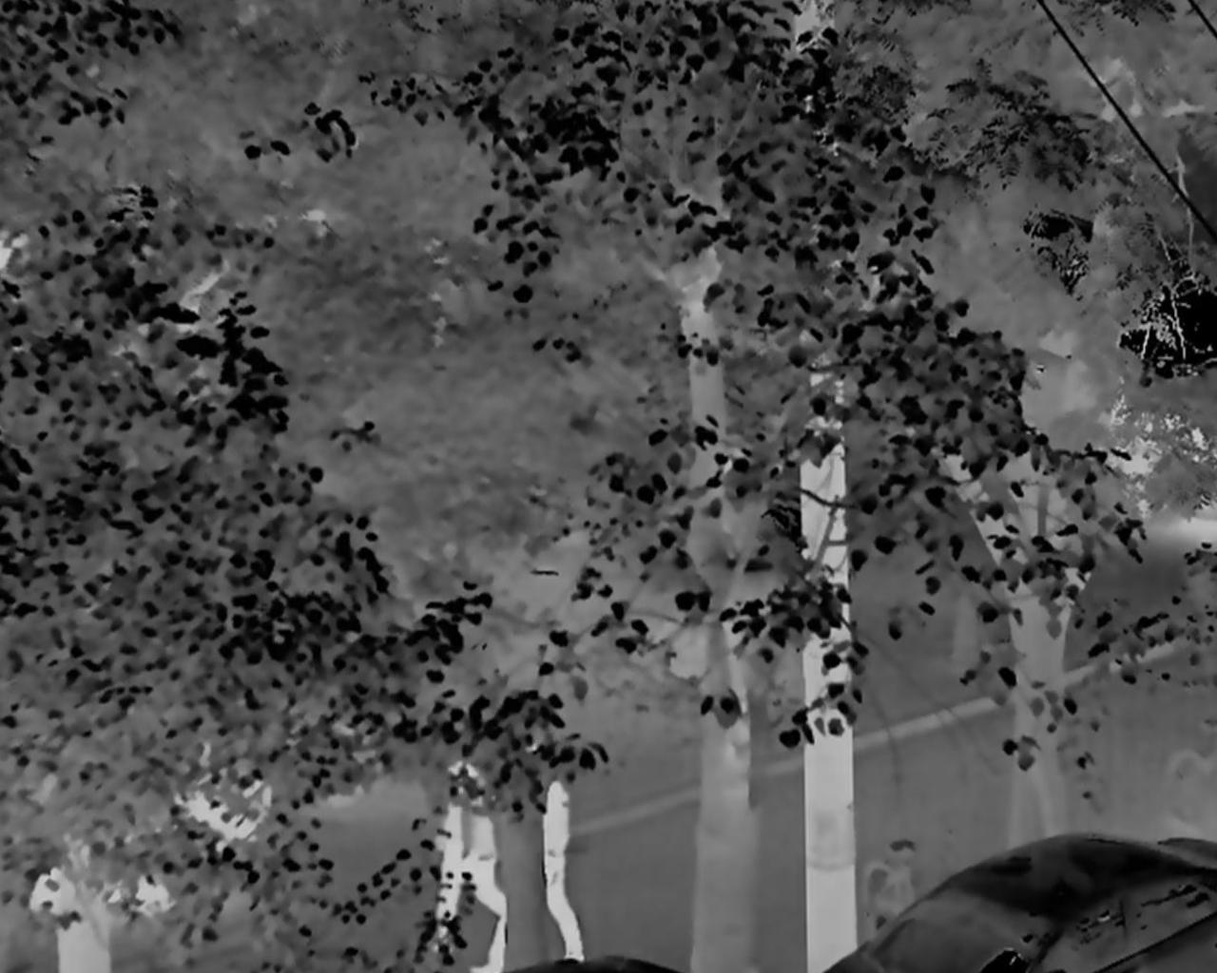person: (487, 735, 587, 973), (429, 756, 511, 954)
